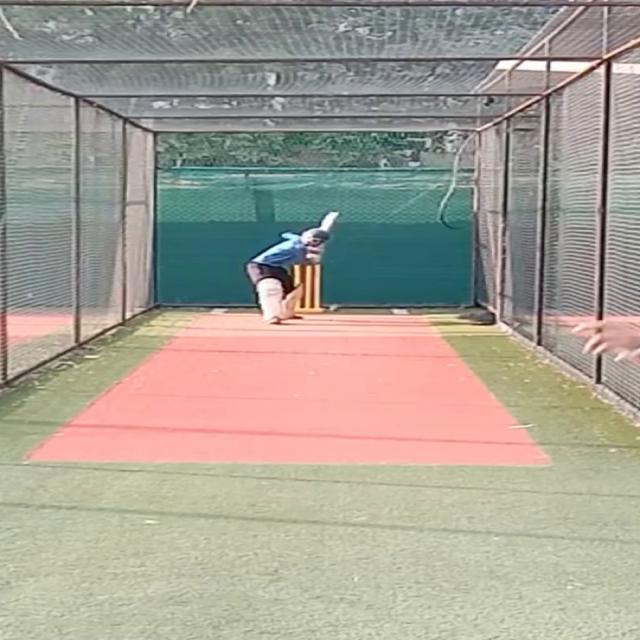stump: (293, 264, 328, 312)
